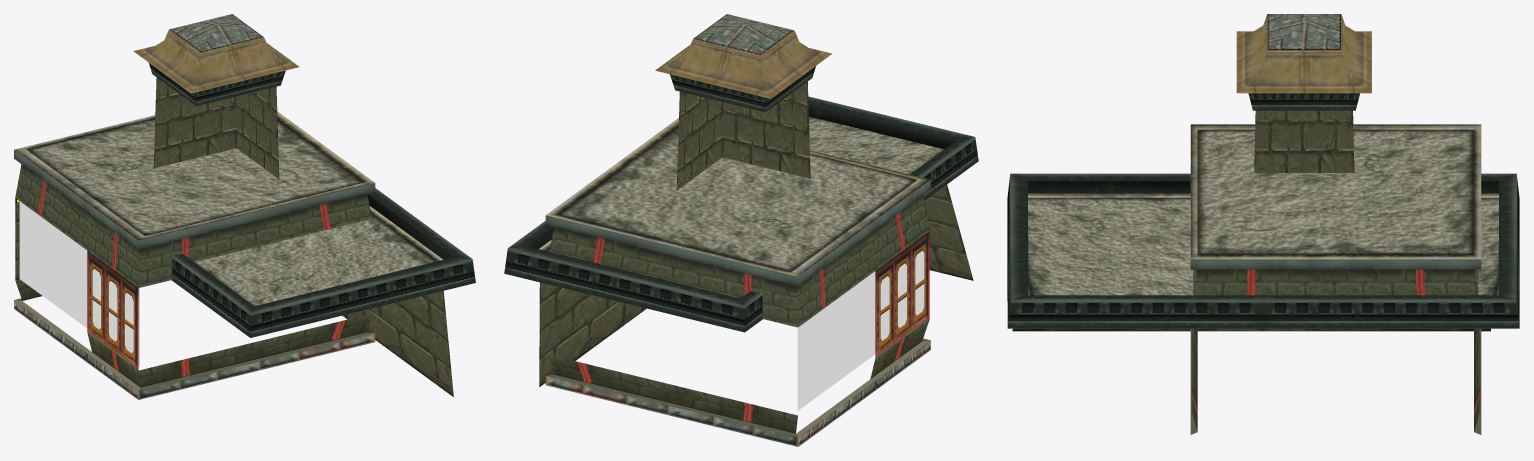
Rendered from l_residenceright.glb.
The picture shows the model from 3 angles, left to right: view 1: azimuth 30°, elevation 25°; view 2: azimuth 150°, elevation 25°; view 3: azimuth 270°, elevation 25°; orthographic projection. The views are drawn at different scales.
Parts seen in each view (by area): view 1: residence_Right, Litwin_res; view 2: residence_Right, Litwin_res; view 3: residence_Right.
Part boxes in pixels (box(x1,y1,x2,y2)): residence_Right: box(14, 14, 475, 399); Litwin_res: box(19, 201, 139, 366); residence_Right: box(504, 14, 978, 446); Litwin_res: box(797, 250, 924, 410); residence_Right: box(1007, 14, 1519, 434).
Size of the model in its own units: 21.27 by 24.25 by 31.15.
Materials: 7 (7 with a texture image).
